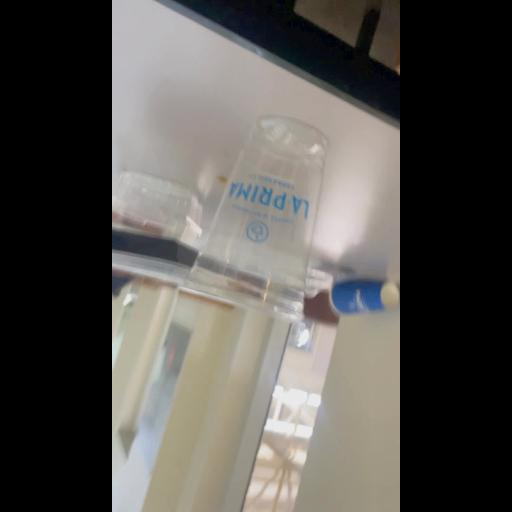lp_plastic_cup: (186, 112, 330, 326)
